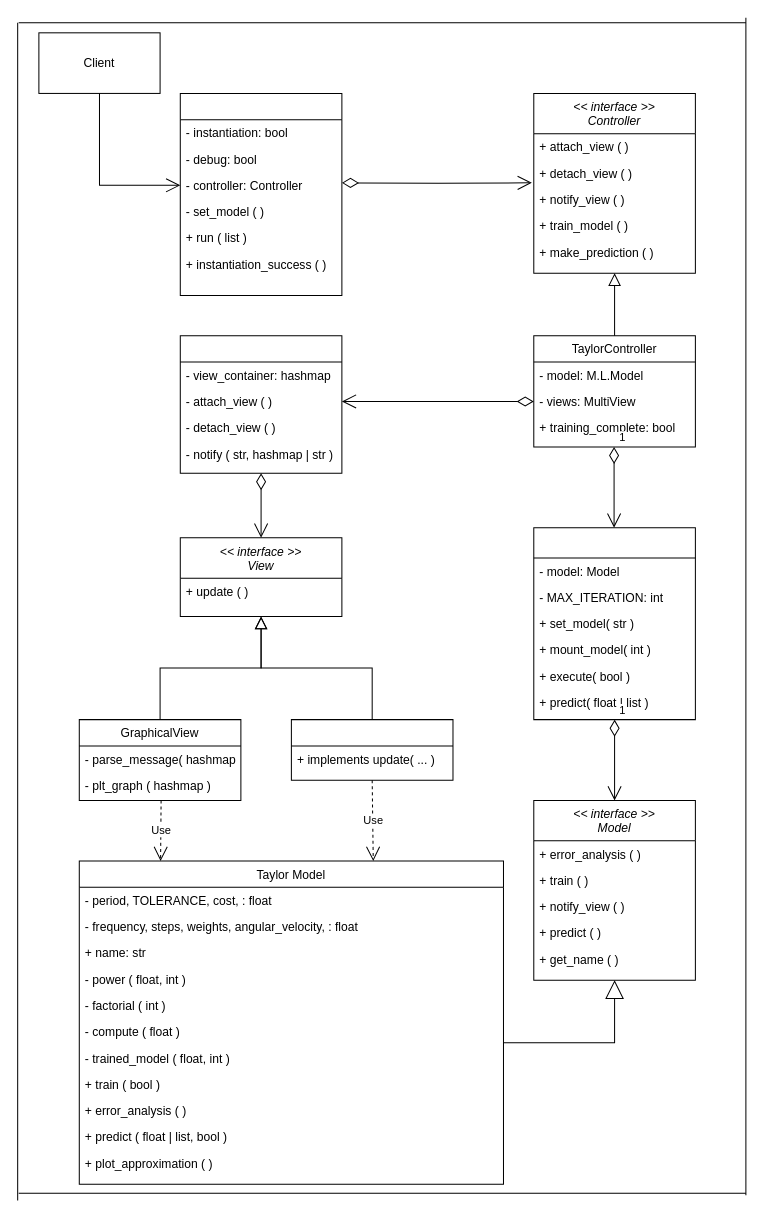
Some shapes in this 765 by 1219 pixel diagram are drawn without their labels. The shapes that lost their labels are listed below. From the top down, each one's box as (x1, y1, x2, y2) in pixels, then its label:
(179, 92, 342, 295): MachineLearning
(179, 335, 342, 473): MultiView
(533, 527, 695, 720): MachineLearningModel
(290, 719, 453, 780): ConsoleView
